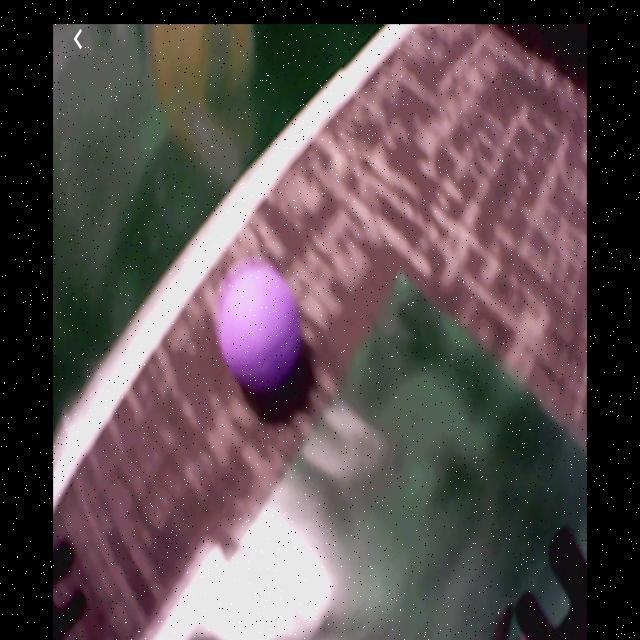ball: (220, 269, 304, 393)
